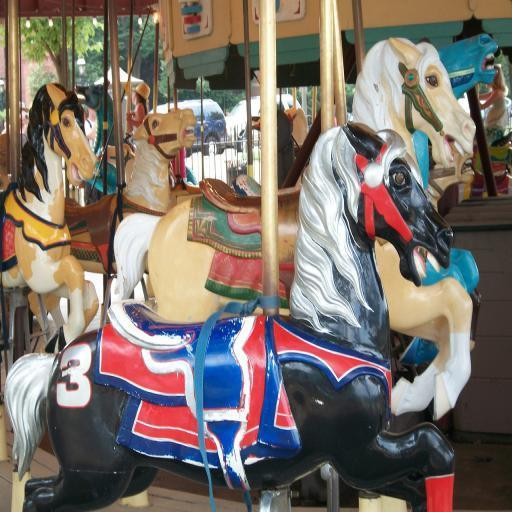horse: (0, 28, 500, 512)
